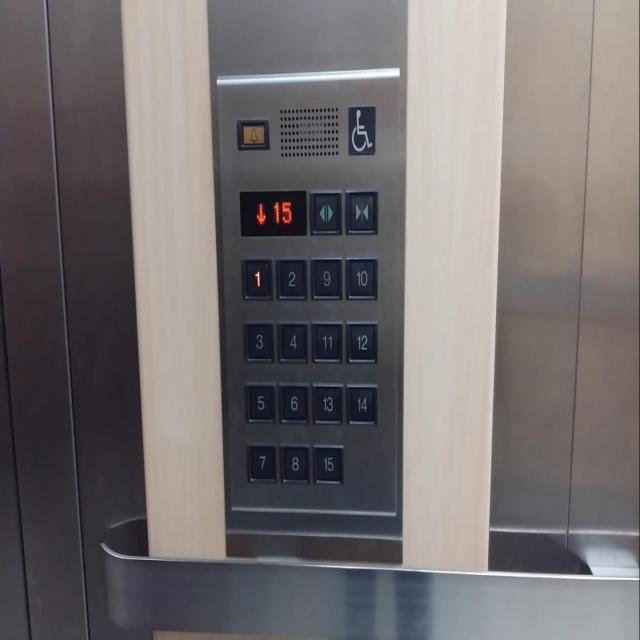1: (239, 252, 275, 300)
10: (343, 253, 378, 302)
11: (310, 316, 344, 366)
12: (345, 316, 378, 366)
13: (310, 378, 345, 426)
14: (343, 380, 378, 428)
15: (312, 441, 344, 485)
2: (274, 253, 308, 302)
3: (242, 317, 277, 364)
4: (276, 316, 309, 365)
5: (242, 377, 277, 425)
6: (276, 378, 310, 426)
7: (246, 438, 278, 482)
8: (278, 440, 310, 484)
9: (309, 252, 343, 301)
CH: (346, 101, 377, 158)
alarm: (234, 115, 272, 149)
close: (344, 187, 379, 235)
led: (238, 186, 308, 238)
open: (308, 188, 344, 236)
